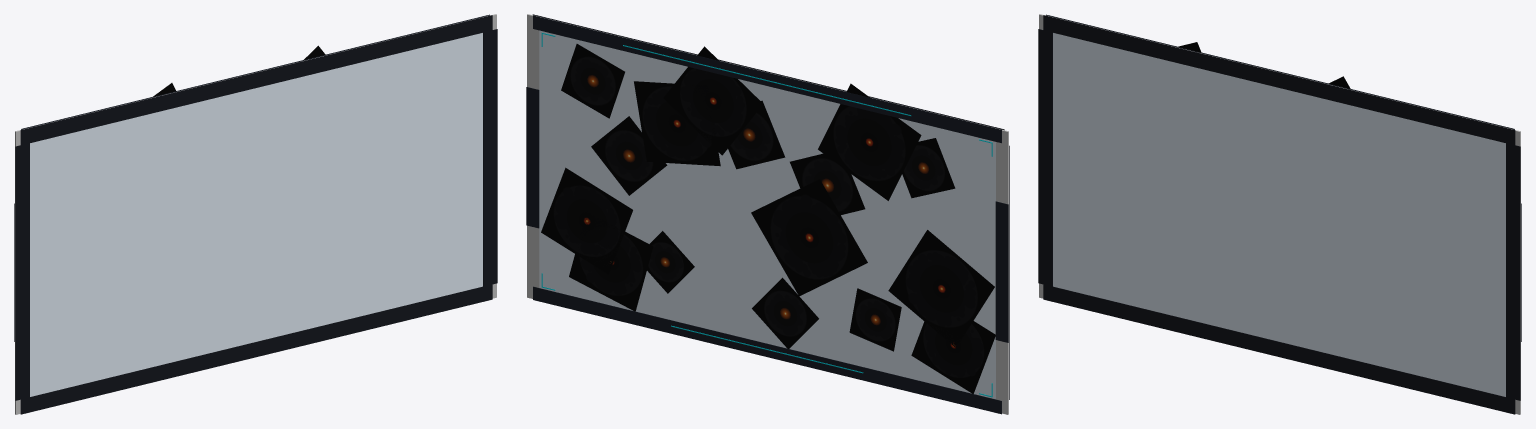
The model's file is screen_decals_overlay_3.obj.
3 views of the same model, side by side, from view 1: azimuth 30°, elevation 25°; view 2: azimuth 150°, elevation 25°; view 3: azimuth 330°, elevation 25° (orthographic).
Parts seen in each view (by area): view 1: Translucent_Clear_Screen, Solid_Back_Panel, Frame_005m_Thick, Solid_Front_Panel; view 2: Translucent_Clear_Screen, Solid_Front_Panel, Decal_MissileStrike_01, Decal_MissileStrike_03, Decal_MissileStrike_05, Decal_MissileStrike_04, Decal_MissileStrike_08, Decal_MissileStrike_02, Frame_005m_Thick, Decal_MissileStrike_06, Decal_MissileStrike_07, Decal_LaserBurn_02 (+9 smaller); view 3: Translucent_Clear_Screen, Solid_Back_Panel, Frame_005m_Thick, Solid_Front_Panel.
Part boxes in pixels (x1,y1,x2,y2): Translucent_Clear_Screen: [30, 33, 482, 396]; Solid_Back_Panel: [15, 15, 497, 414]; Frame_005m_Thick: [15, 14, 496, 414]; Solid_Front_Panel: [14, 14, 489, 341]; Translucent_Clear_Screen: [539, 30, 995, 399]; Solid_Front_Panel: [526, 15, 1008, 414]; Decal_MissileStrike_01: [751, 179, 867, 296]; Decal_MissileStrike_03: [888, 230, 994, 347]; Decal_MissileStrike_05: [818, 83, 921, 200]; Decal_MissileStrike_04: [541, 167, 632, 274]; Decal_MissileStrike_08: [663, 46, 763, 155]; Decal_MissileStrike_02: [634, 81, 720, 166]; Frame_005m_Thick: [527, 14, 1008, 414]; Decal_MissileStrike_06: [569, 213, 653, 311]; Decal_MissileStrike_07: [911, 313, 995, 393]; Decal_LaserBurn_02: [591, 116, 667, 195]; Translucent_Clear_Screen: [1053, 33, 1505, 396]; Solid_Back_Panel: [1038, 15, 1520, 414]; Frame_005m_Thick: [1039, 14, 1520, 414]; Solid_Front_Panel: [1046, 14, 1521, 341].
Bounding box in the file's own units: 1.6 × 0.9391 × 0.0091.
